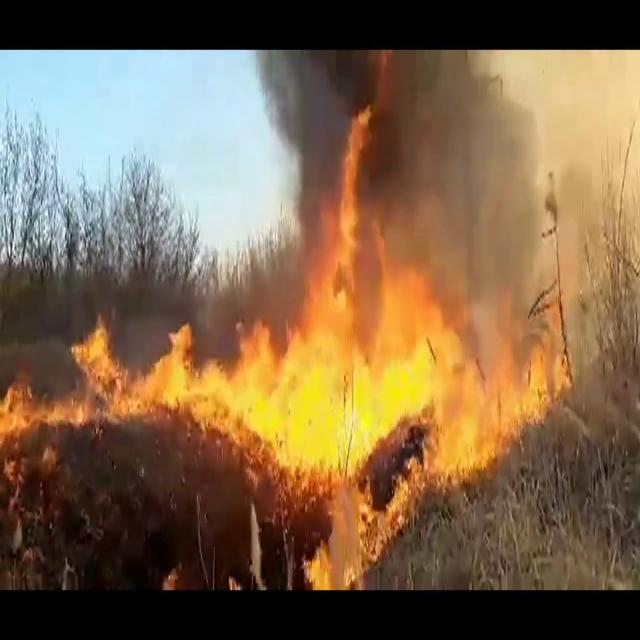Fire: (208, 128, 566, 538), (5, 308, 222, 457)
Smoke: (248, 52, 558, 286), (427, 50, 637, 345)
